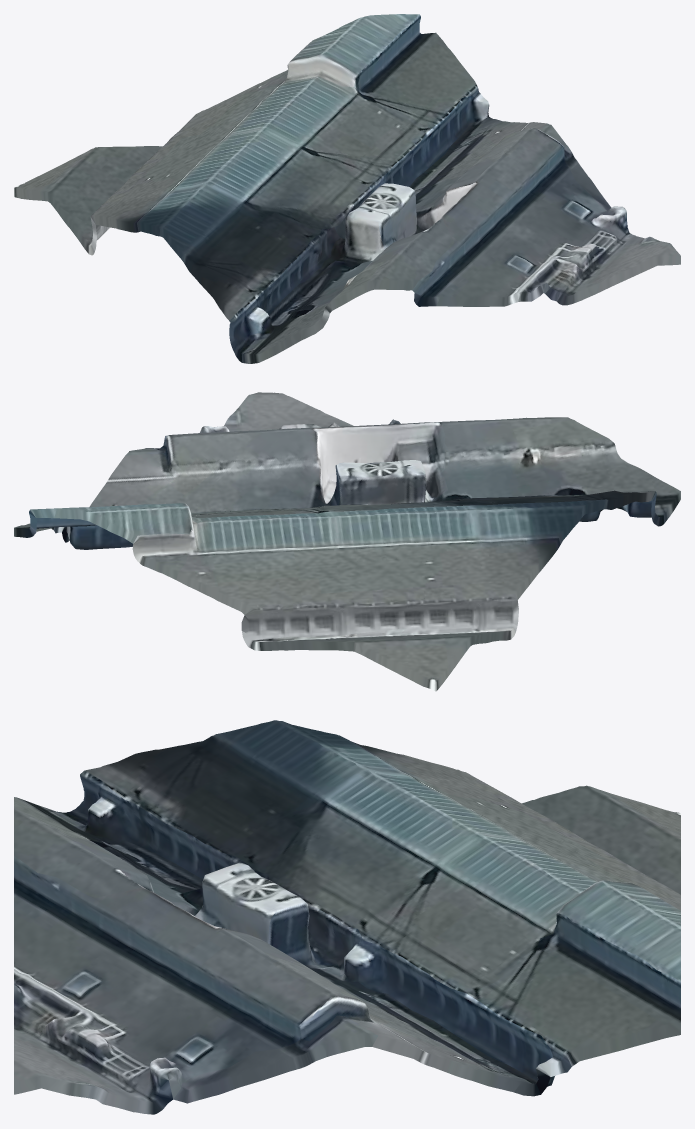
Rendered from z20-167790-405219-h0-yup-uvflip-v3-world.glb.
3 renders of one model, top to bottom at view 1: azimuth 30°, elevation 25°; view 2: azimuth 150°, elevation 25°; view 3: azimuth 270°, elevation 25°, orthographic. The views are drawn at different scales.
Size of the model in its own units: 30.16 by 6.96 by 30.32.
1 material, 1 textured.
